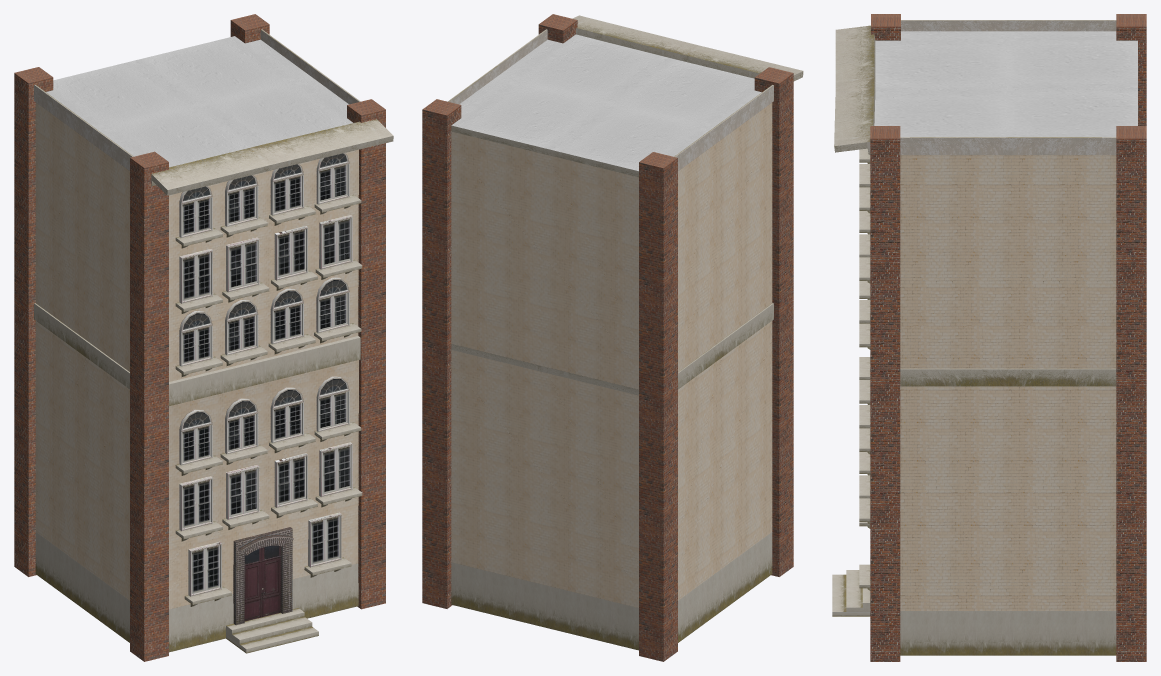
The model's file is city3_h15.fbx.
3 renders of one model, left to right at view 1: azimuth 30°, elevation 25°; view 2: azimuth 150°, elevation 25°; view 3: azimuth 270°, elevation 25°, orthographic. The views are drawn at different scales.
Parts seen in each view (by area): view 1: Default_Layer; view 2: Default_Layer; view 3: Default_Layer.
Boxes of the visible parts, left/top/right/bottom form: Default_Layer: left=14, top=14, right=393, bottom=661; Default_Layer: left=422, top=14, right=803, bottom=661; Default_Layer: left=832, top=14, right=1146, bottom=661.
Bounding box in the file's own units: 466 × 911 × 496.
